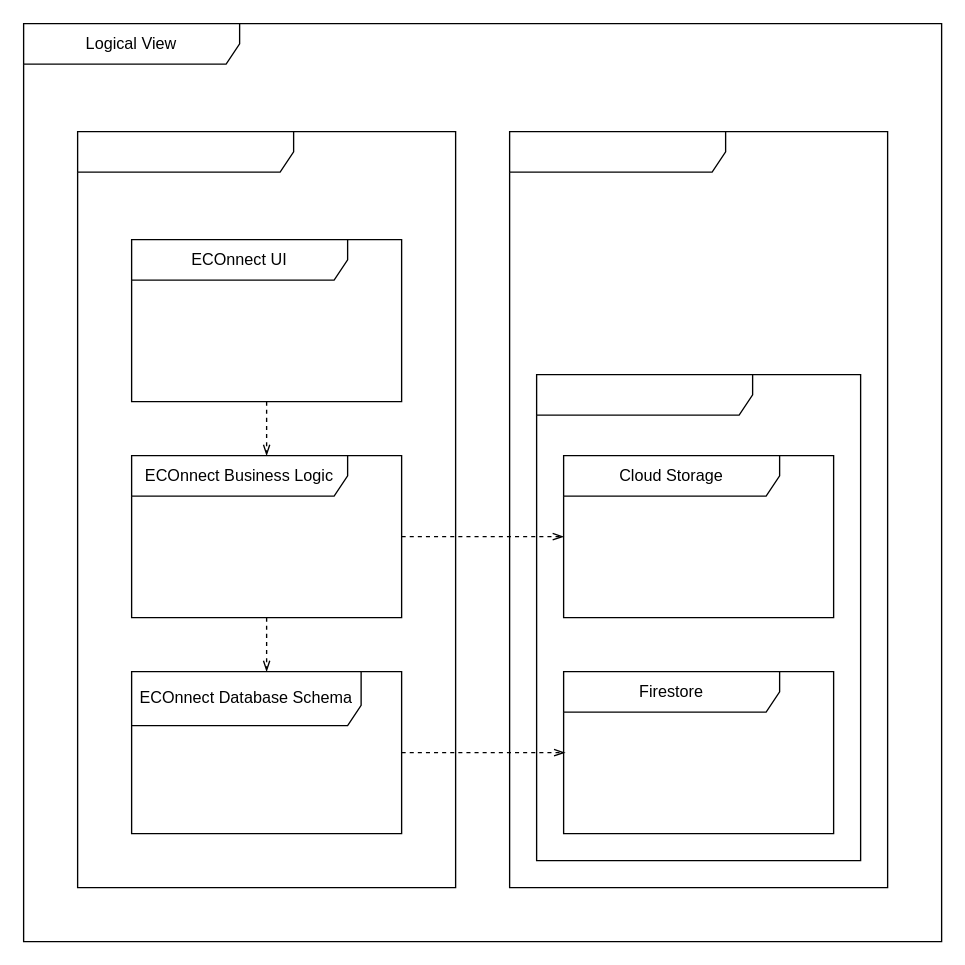
Some shapes in this 965 by 965 pixel diagram are drawn without their labels. The box of each missing label's shape, as (x1, y1, x2, y2) in pixels:
ECOnnect App: (76, 130, 456, 888)
External Services: (508, 130, 888, 888)
Google Firebase: (535, 373, 861, 861)
